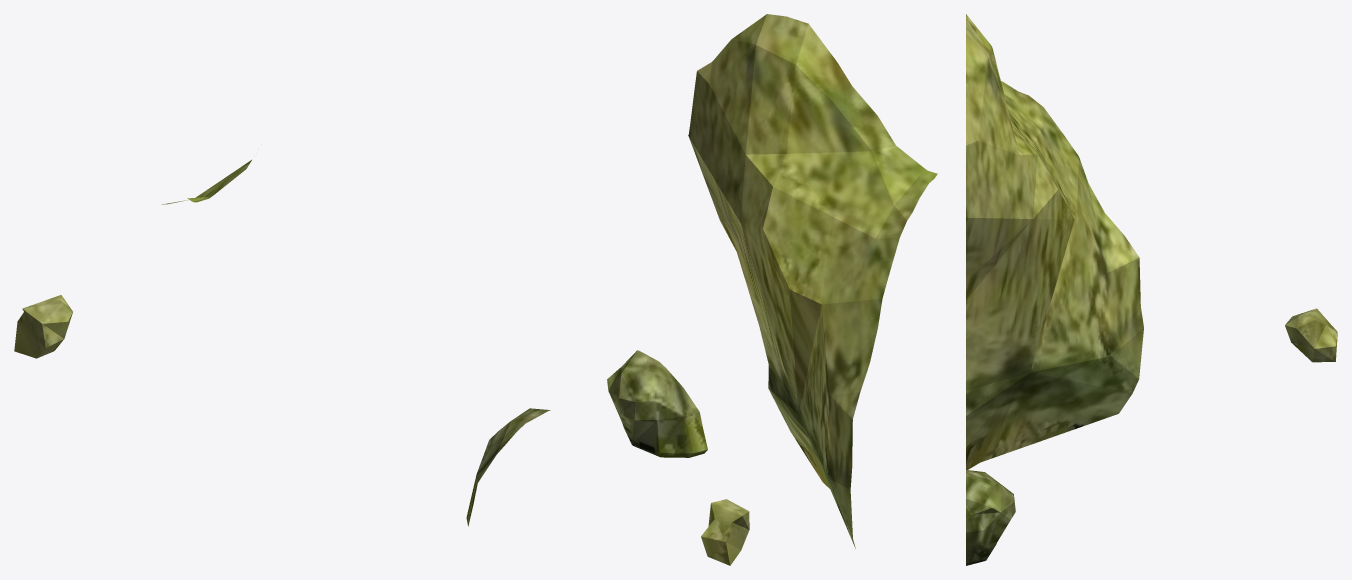
3 renders of one model, left to right at view 1: azimuth 30°, elevation 25°; view 2: azimuth 150°, elevation 25°; view 3: azimuth 270°, elevation 25°, orthographic. The views are drawn at different scales.
Bounding box in the file's own units: 1.51 × 2.04 × 1.47.
Materials: 1 (1 with a texture image).
